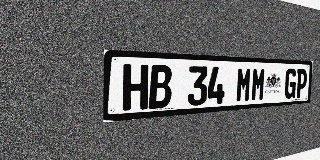3: (188, 66, 208, 106)
4: (207, 66, 226, 105)
B: (149, 65, 172, 109)
G: (284, 68, 297, 99)
H: (123, 64, 149, 111)
M: (235, 67, 252, 103), (251, 68, 266, 101)
P: (295, 69, 308, 98)
